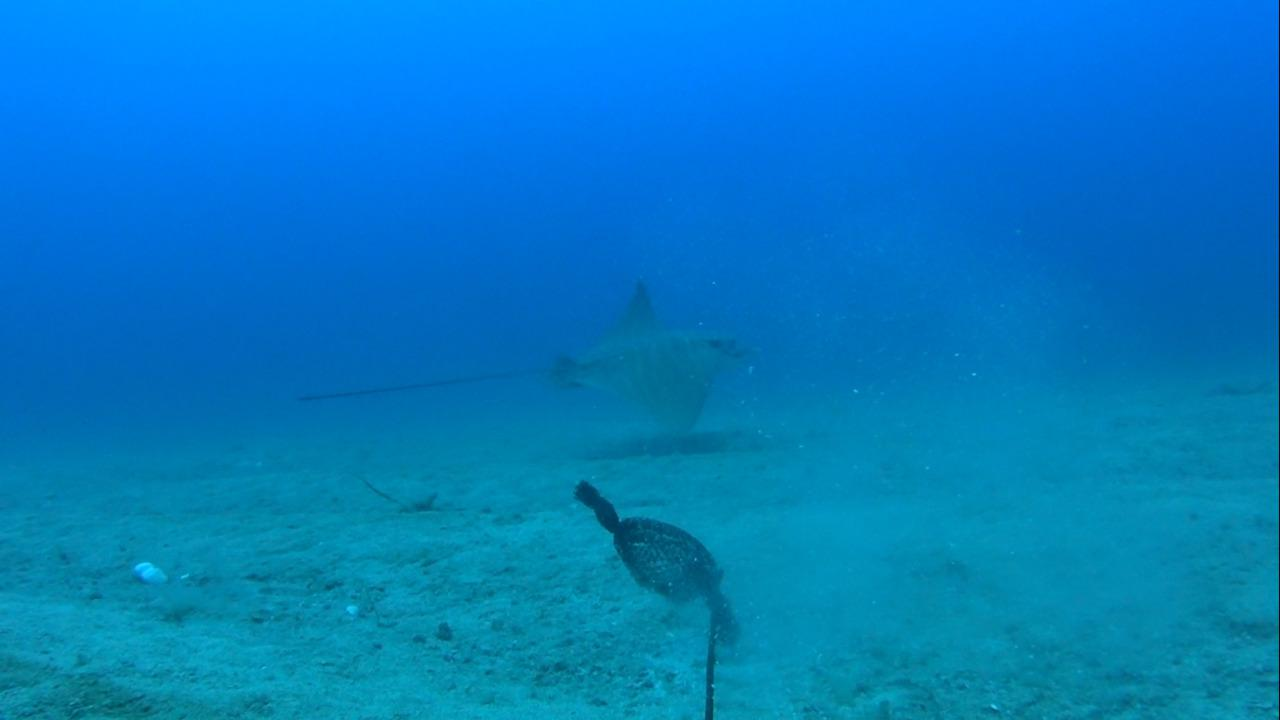myliobatis: (286, 273, 762, 448)
